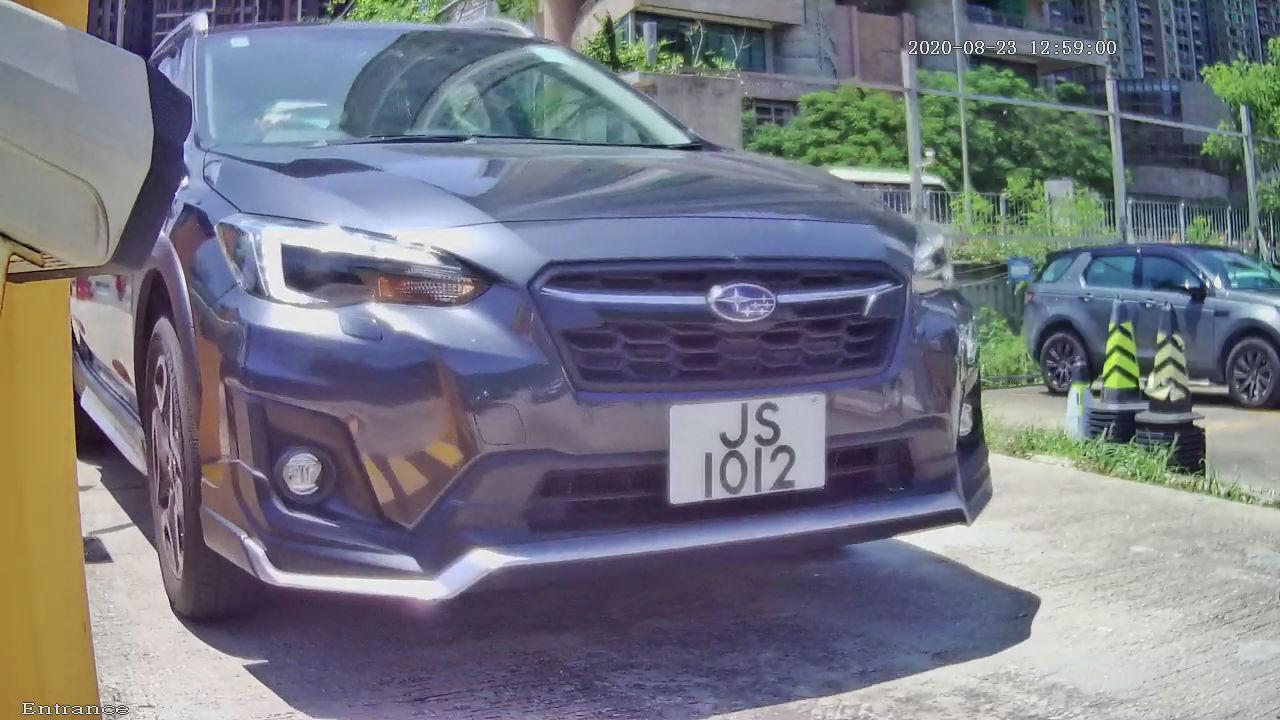Car: (46, 10, 1069, 669)
License Plate: (658, 383, 846, 521)
